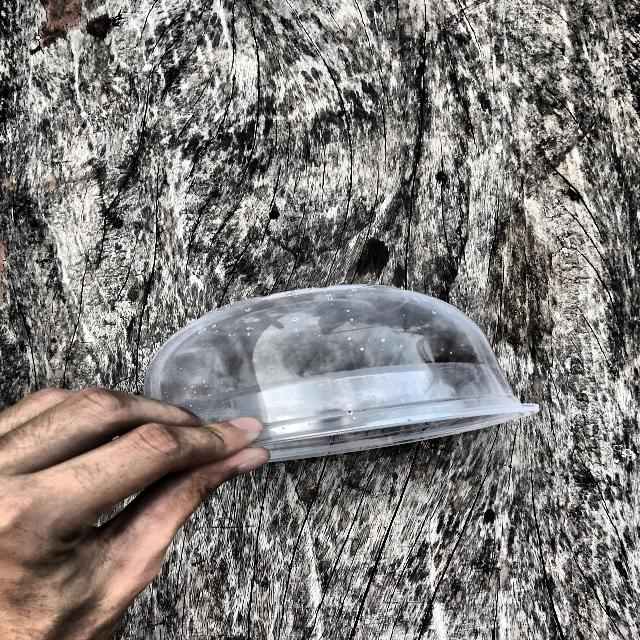plastic container: (119, 253, 555, 511)
